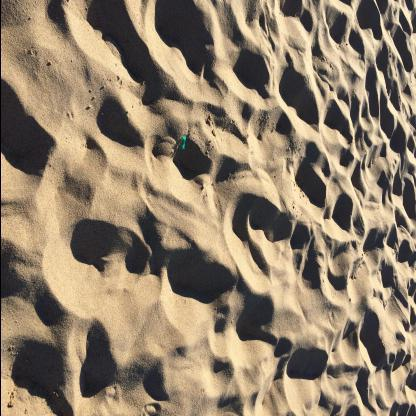diger: (180, 137, 187, 151)
